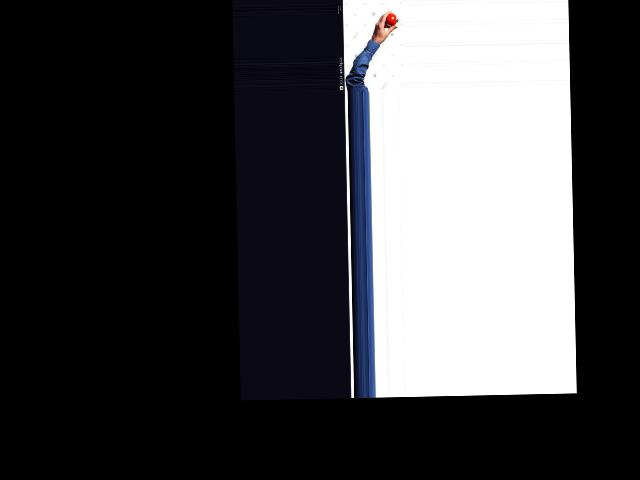tomato: (385, 13, 396, 25)
